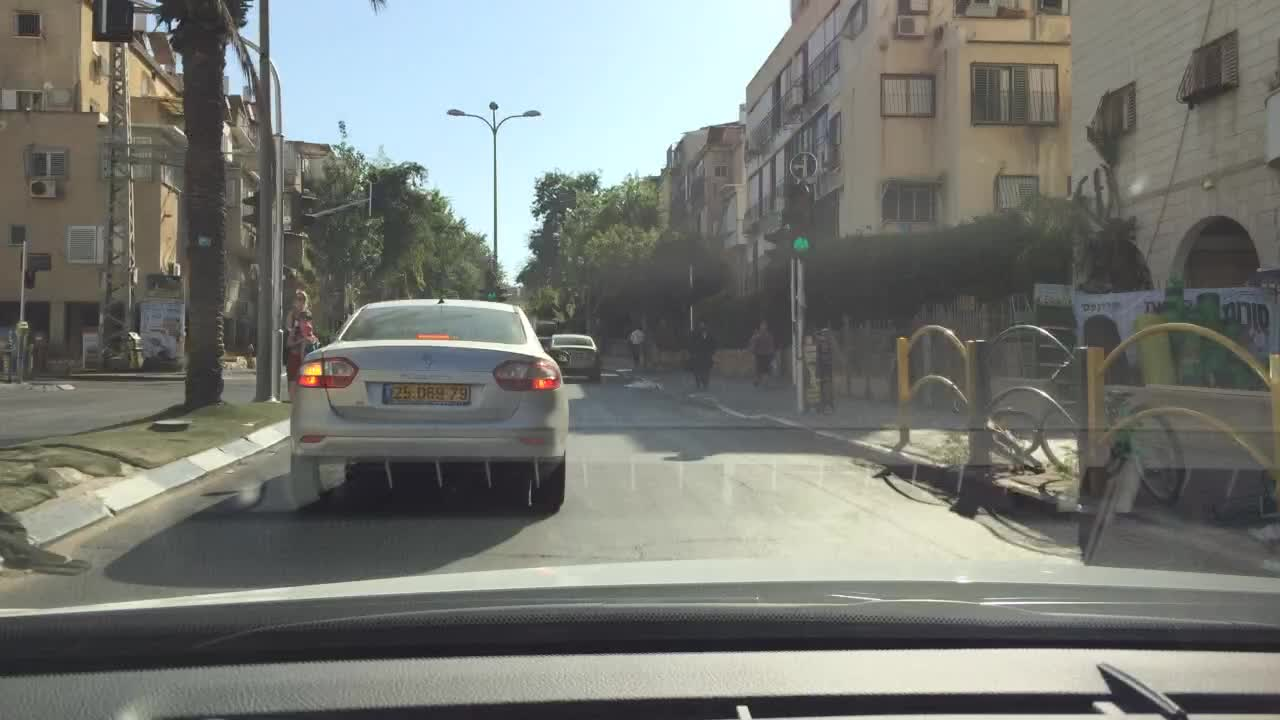car: (285, 296, 571, 506), (549, 331, 602, 380)
person: (283, 290, 318, 406), (747, 318, 776, 391), (690, 320, 713, 391), (295, 309, 319, 359), (627, 323, 643, 365)
traffic light: (89, 0, 134, 44), (762, 228, 791, 263), (792, 234, 809, 255)
traffic sign: (789, 150, 821, 179)
